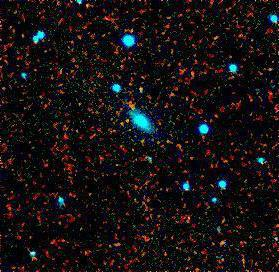star: (130, 74, 160, 104)
